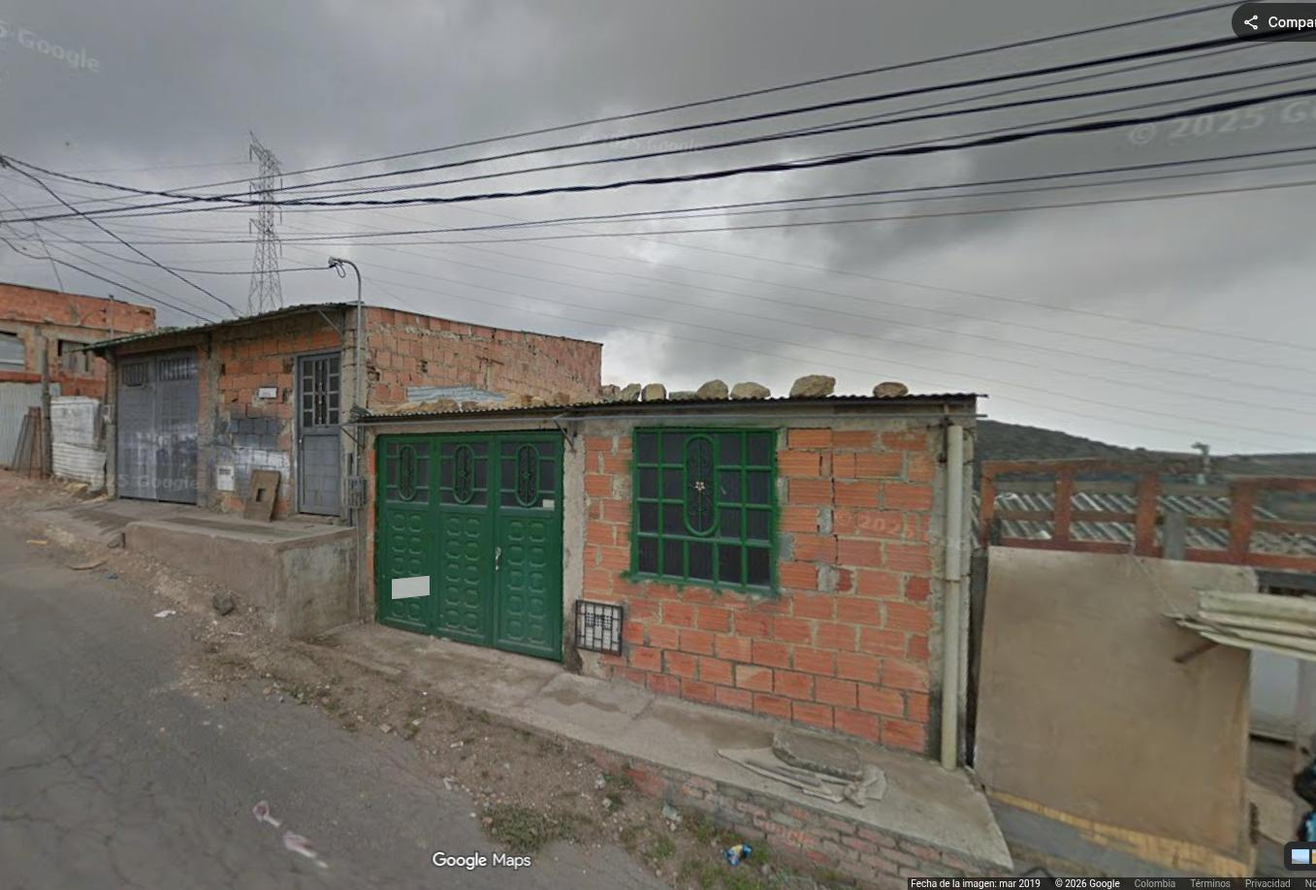casa: (370, 396, 975, 754)
